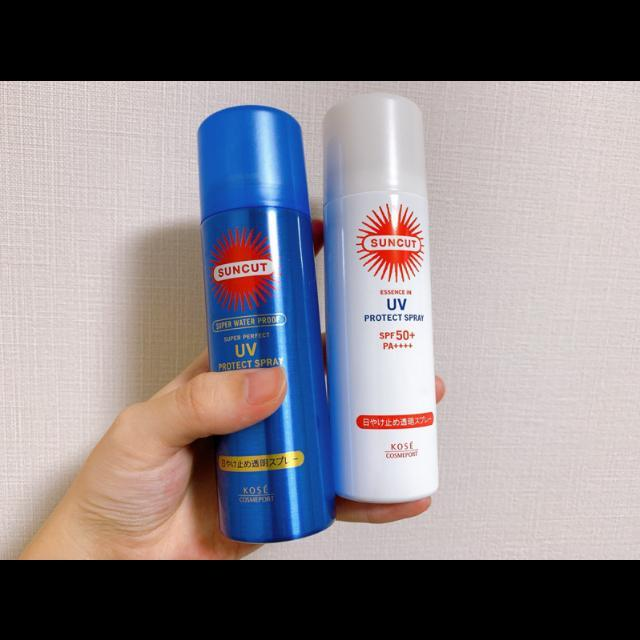chemical_spray_can: (306, 83, 498, 559), (184, 96, 330, 548)
